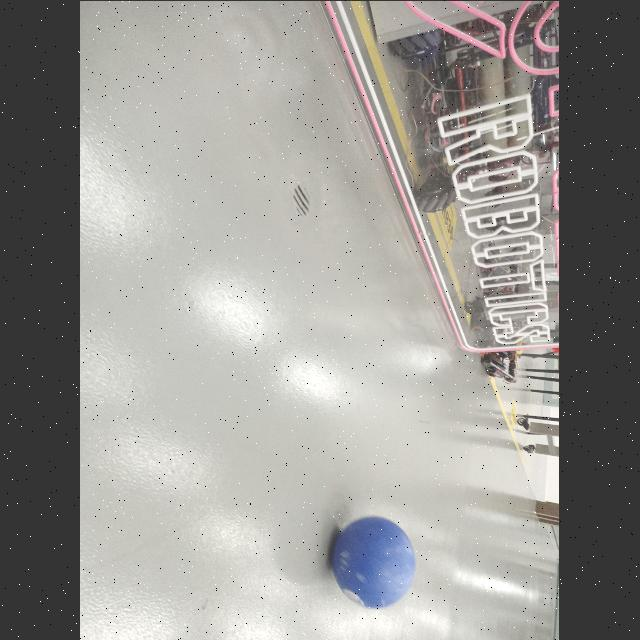B: (328, 515, 418, 615)
